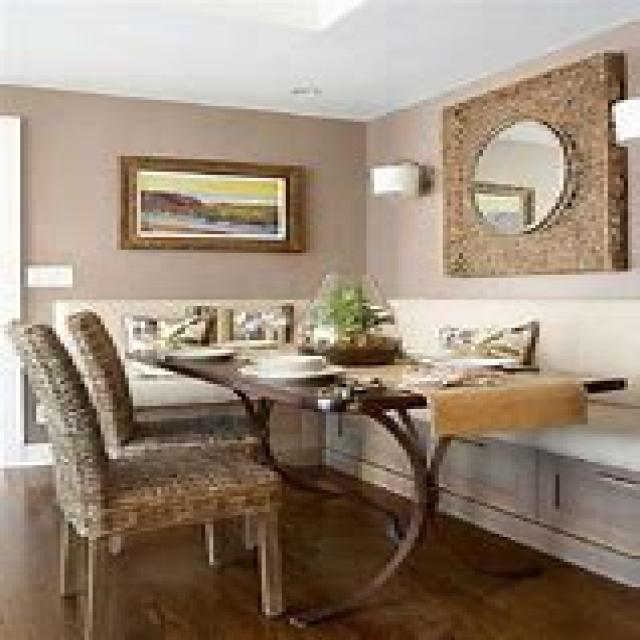chair: (4, 318, 286, 637)
table: (153, 340, 624, 624)
